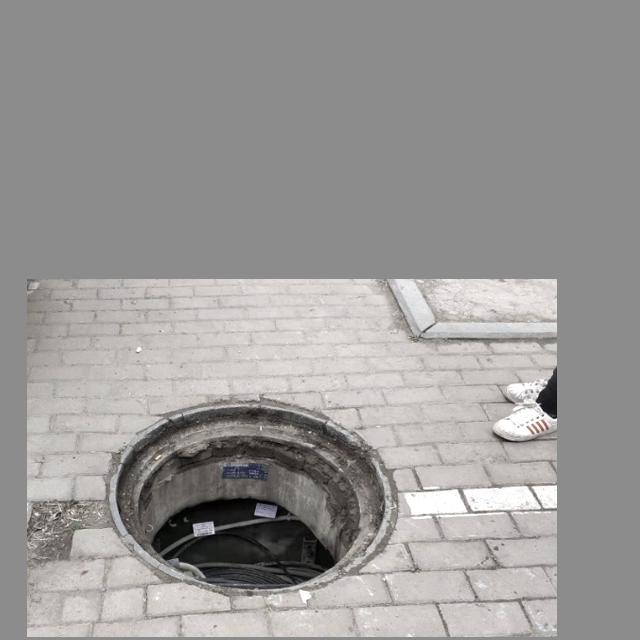lose: (97, 386, 403, 596)
